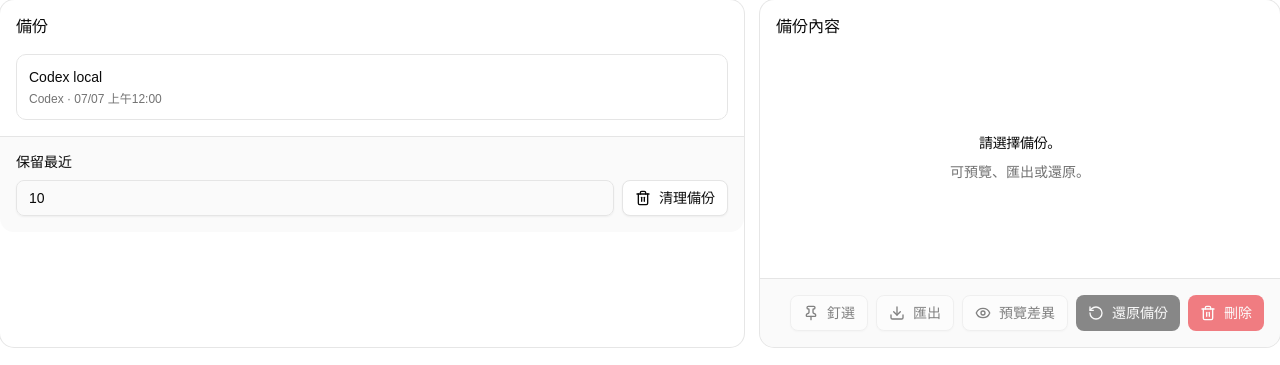
Test: BackupsWorkspace › hides backup secrets until the user reveals them
What coordinates should you click on to do the following:
click the text "Codex local"
I would click on:
 (66, 77)
Its box is [29,67,102,87].
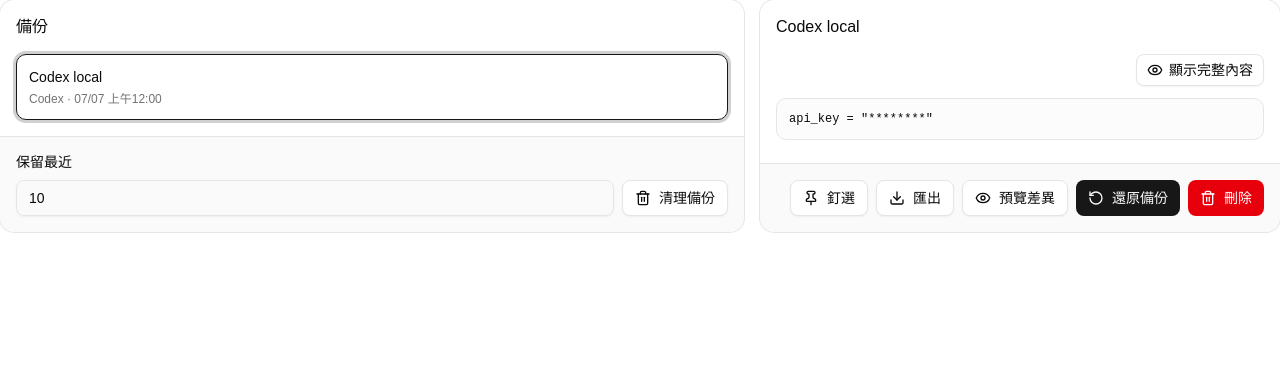
Expected: the text "secret-value" is not shown
Now the text "api_key = \"********\"" is shown, box [776,98,1264,140]
What coordinates should you click on to do the following:
click the button "顯示完整內容"
I would click on:
 (1200, 70)
Its box is [1136,54,1264,86].
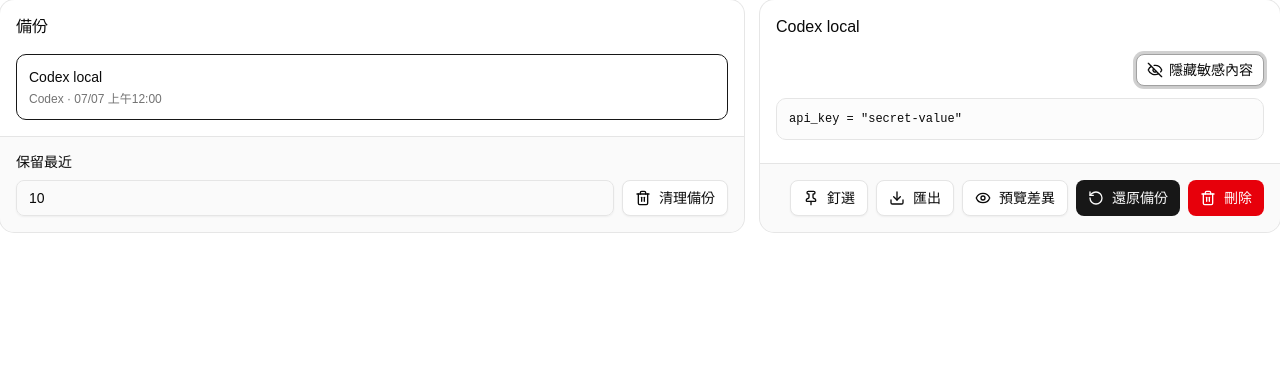
Now the text "api_key = \"secret-value\"" is shown, box [776,98,1264,140]
